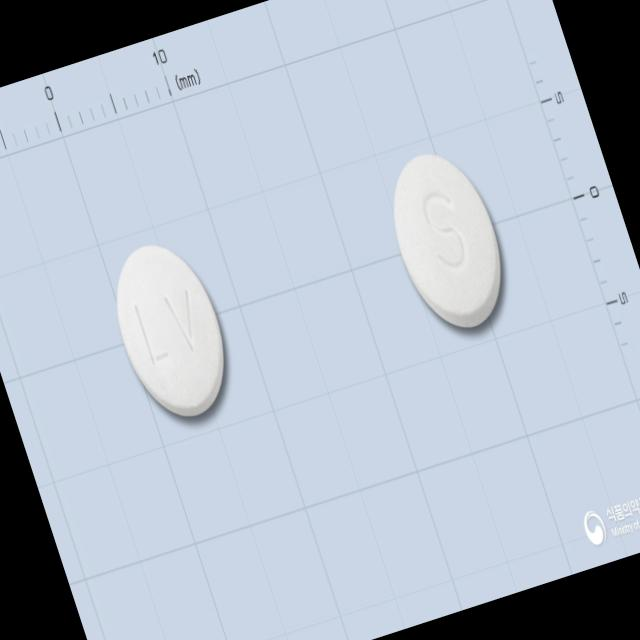Levobacter: (373, 137, 522, 341), (96, 228, 246, 430)
